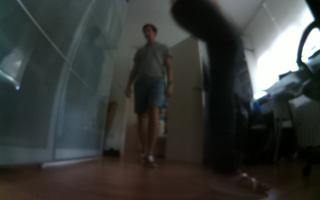person: (166, 1, 276, 200), (115, 19, 188, 181)
